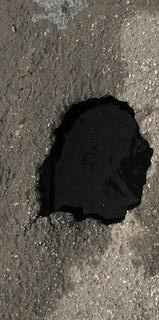Spalling: (30, 94, 154, 227)
